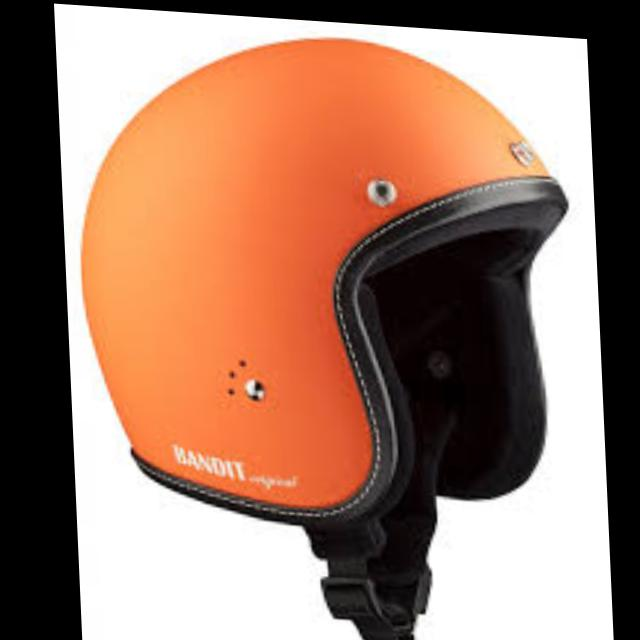motorcycle-helmets: (83, 39, 558, 612)
